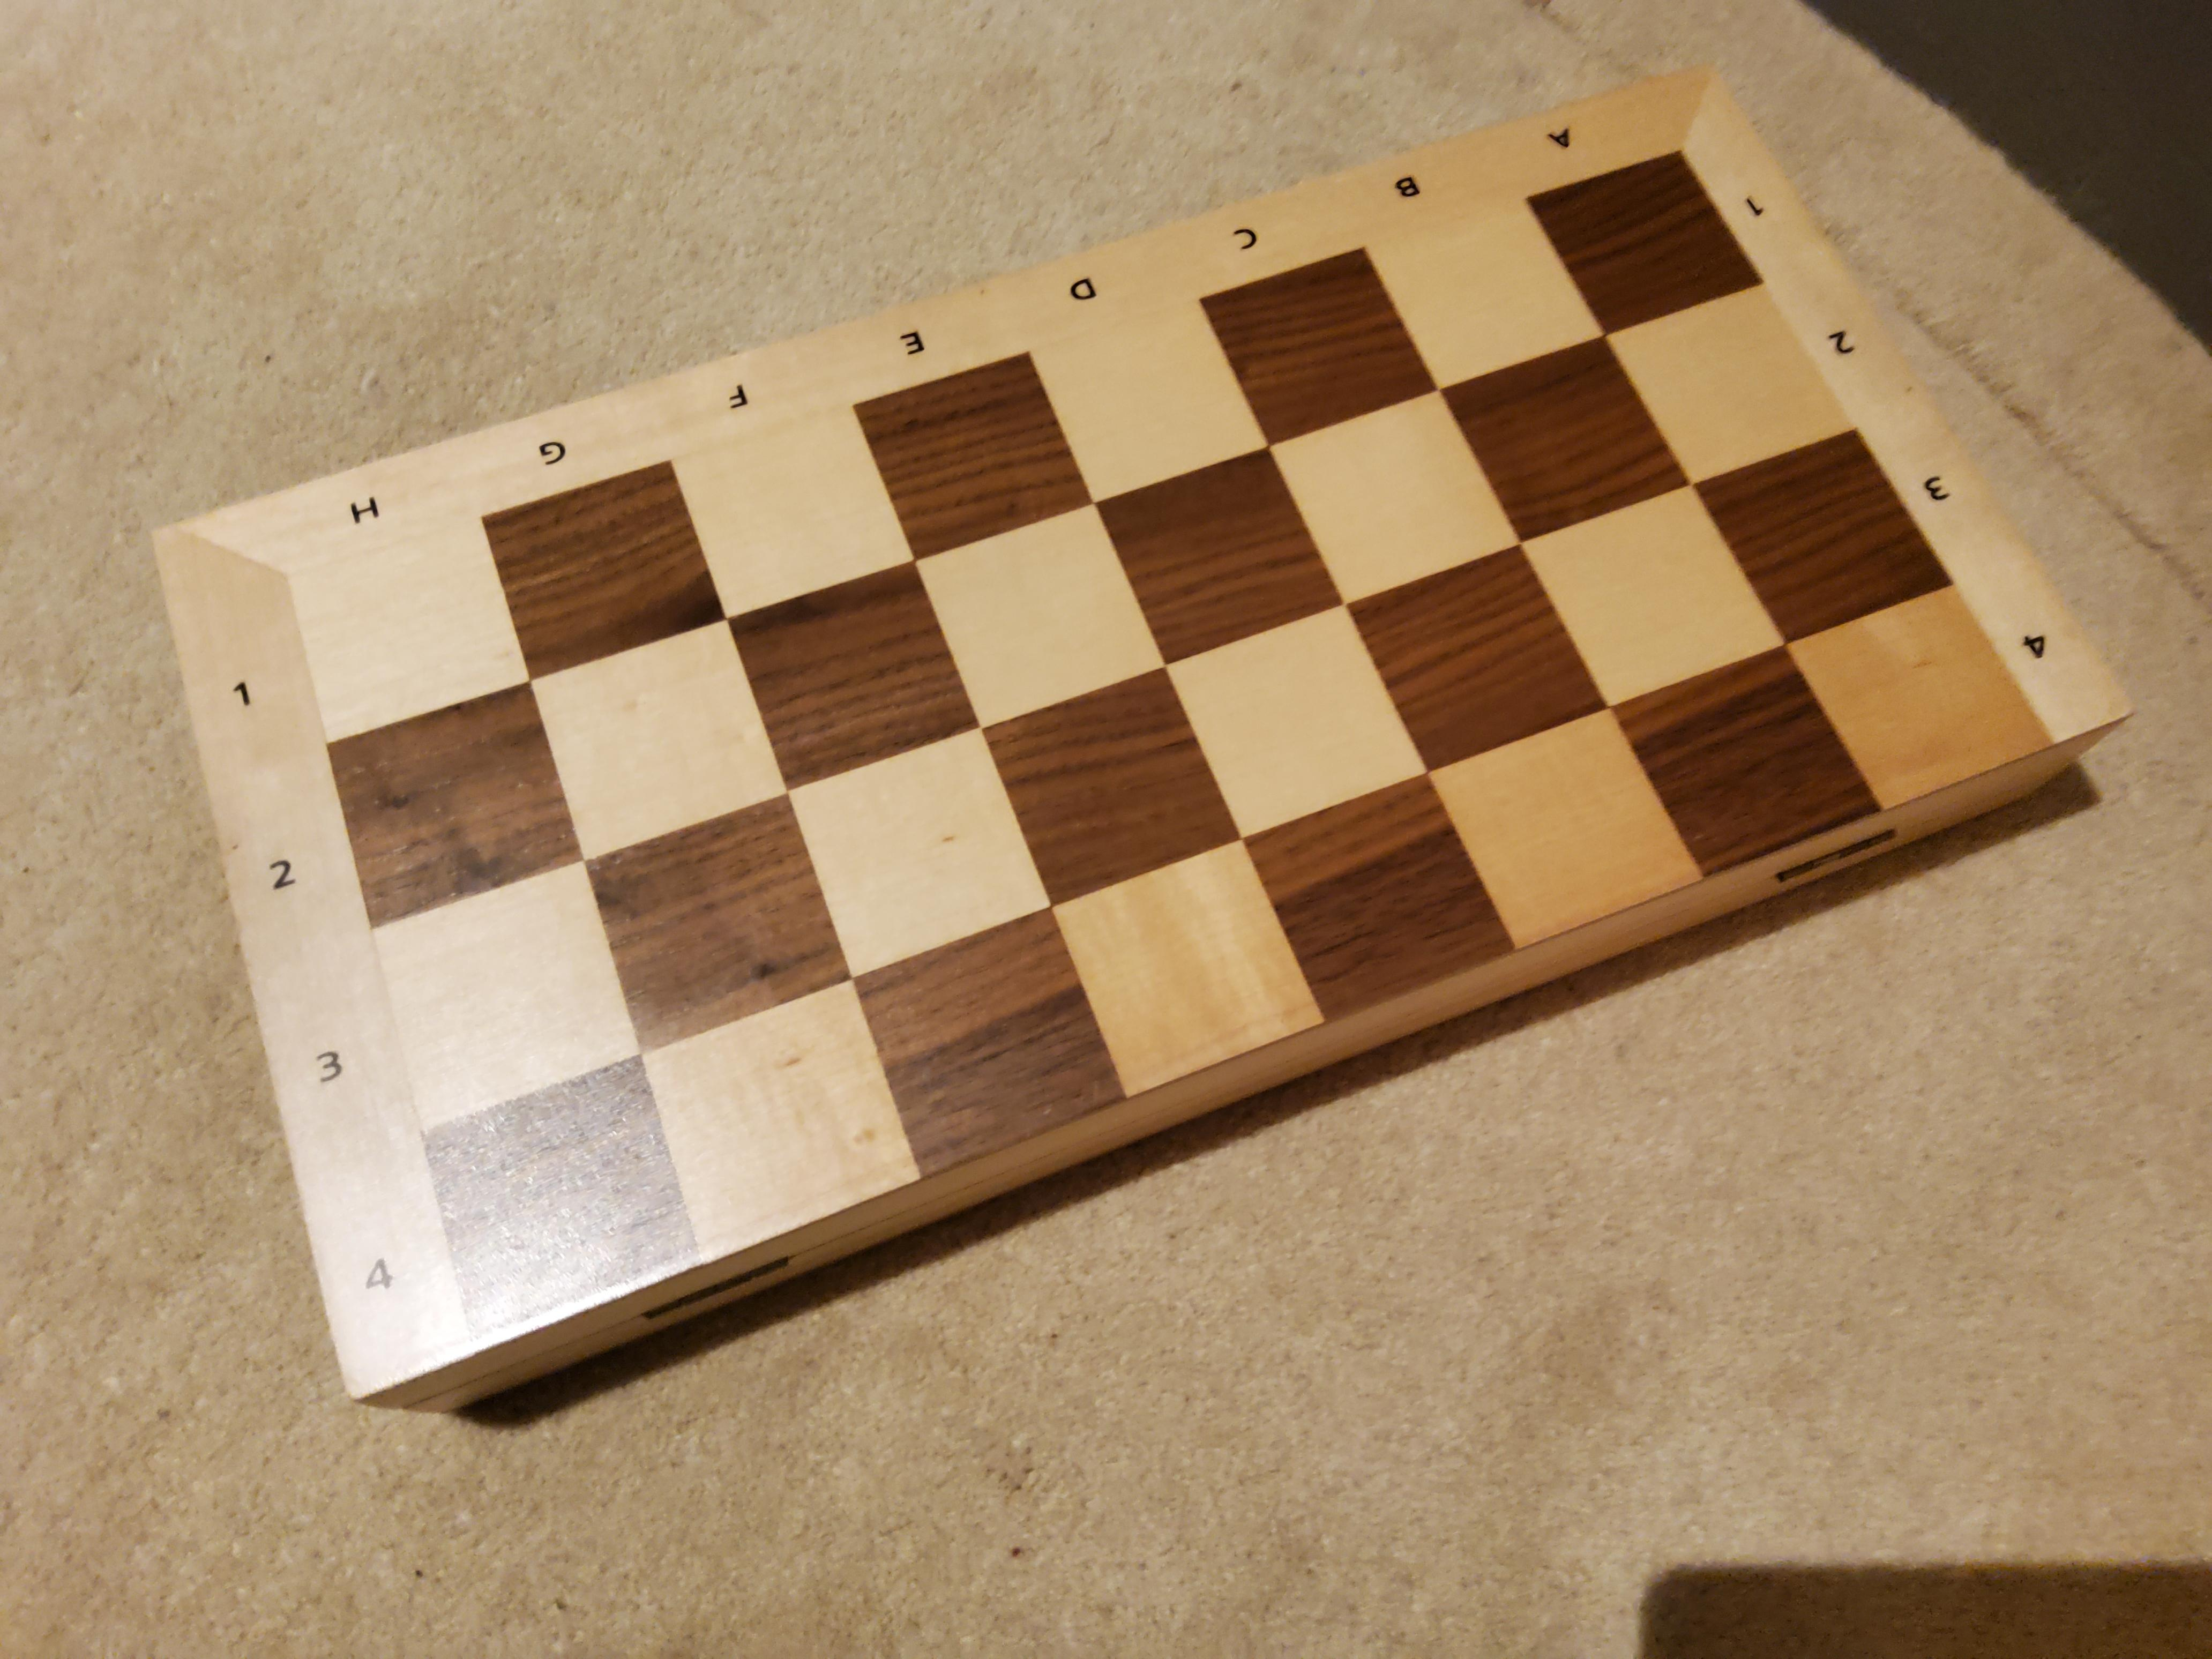schaak: (145, 51, 2144, 1385)
